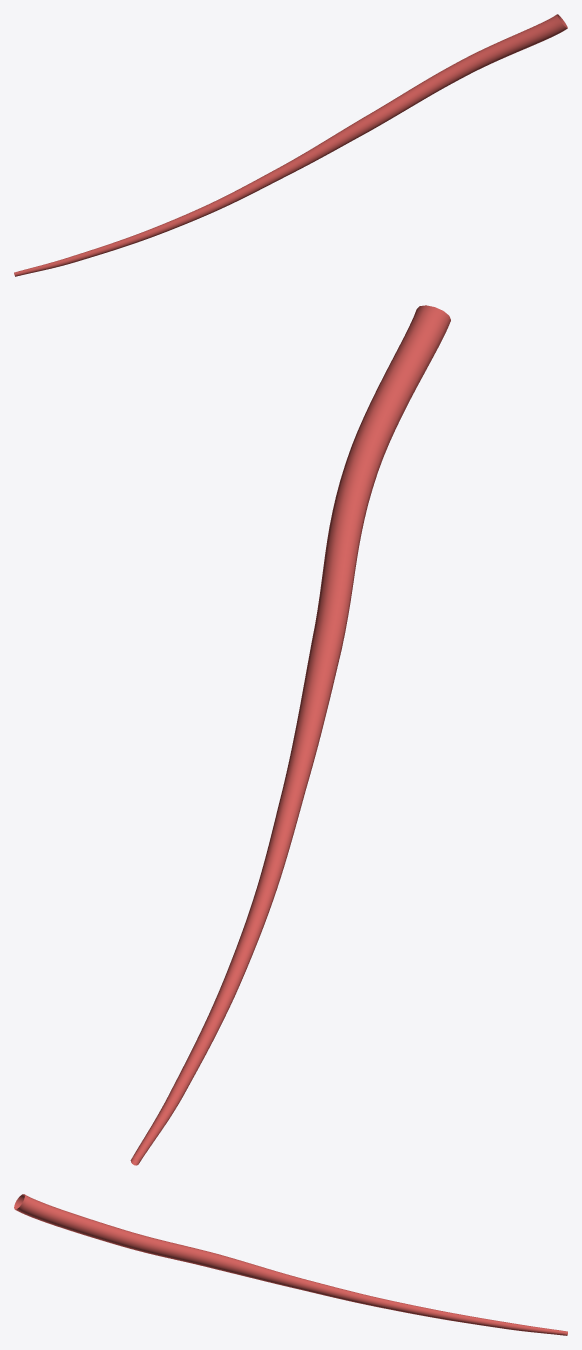
3 renders of one model, top to bottom at view 1: azimuth 90°, elevation 25°; view 2: azimuth 150°, elevation 25°; view 3: azimuth 270°, elevation 25°, orthographic. The views are drawn at different scales.
Parts seen in each view (by area): view 1: 右侧胸肩峰动脉胸肌支; view 2: 右侧胸肩峰动脉胸肌支; view 3: 右侧胸肩峰动脉胸肌支.
Boxes of the visible parts, x1,y1,x2,y2 form: 右侧胸肩峰动脉胸肌支: (14,14,567,276); 右侧胸肩峰动脉胸肌支: (130,305,450,1165); 右侧胸肩峰动脉胸肌支: (14,1194,567,1335).
Bounding box in the file's own units: 0.0502 × 0.0718 × 0.1794.
